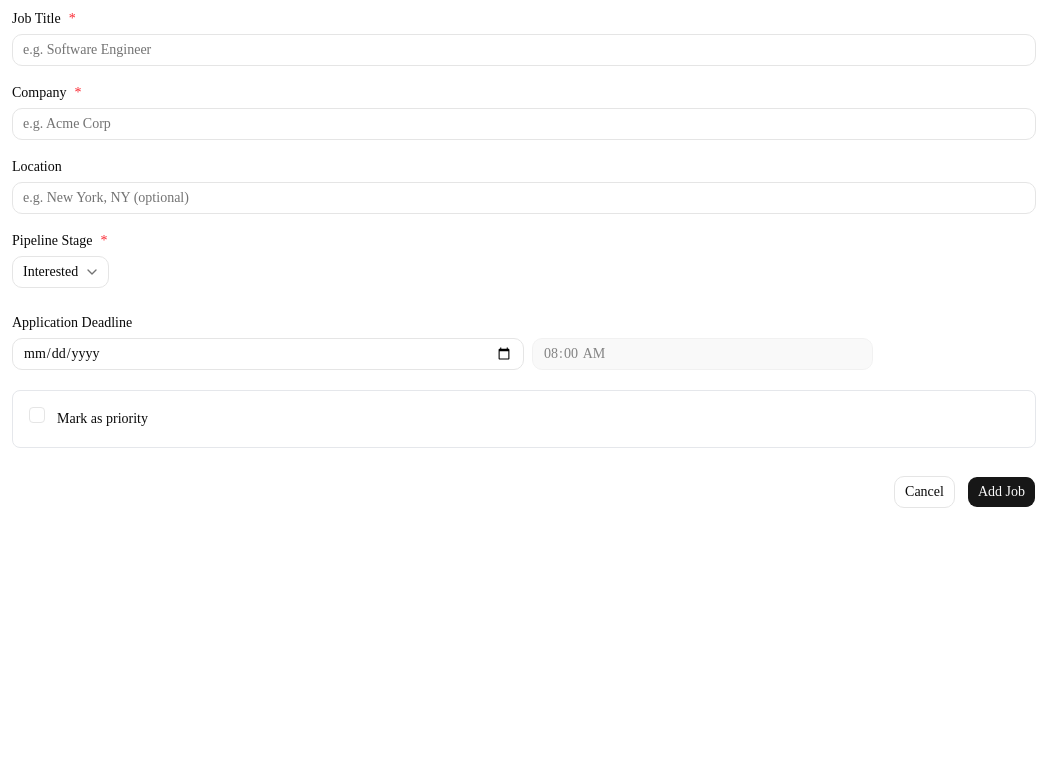
Scenario: SCRUM-25 - JobForm › validation failure: blocks submit when required fields are empty
This screenshot has width=1048, height=780.
Step 1. Click the submit button → (1001, 492), box [967,476,1036,508]
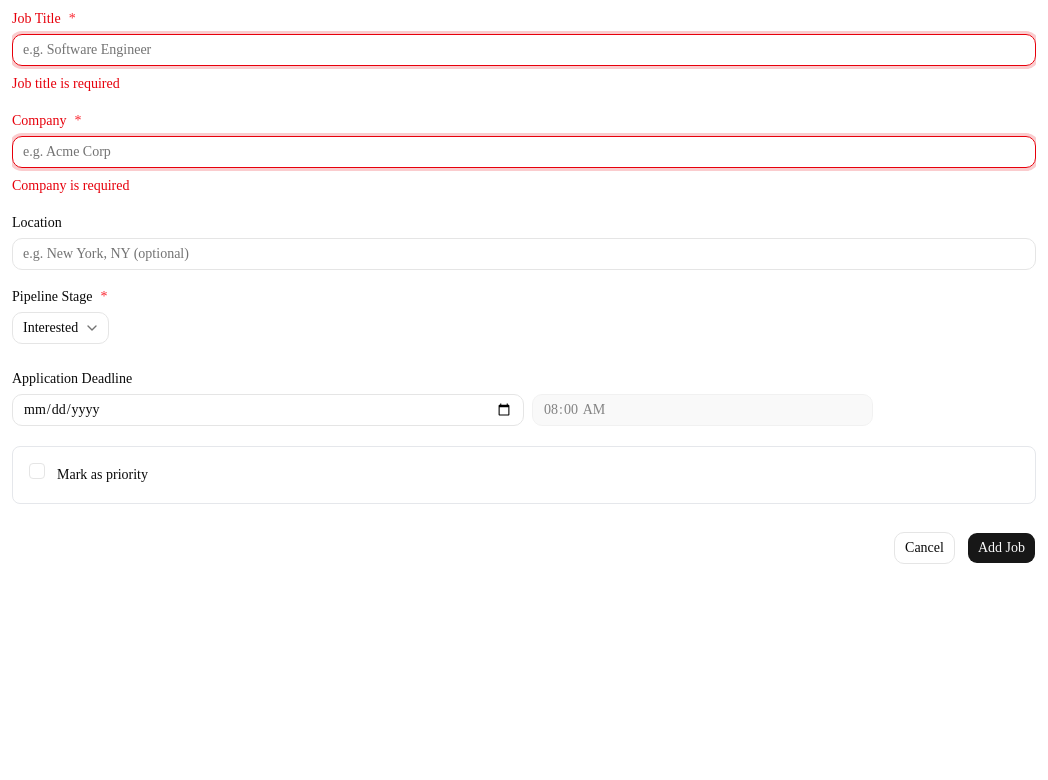
Expected: the text "Job title is required" is shown, [12,76,120,91]
Expected: the text "Company is required" is shown, [12,178,129,193]
